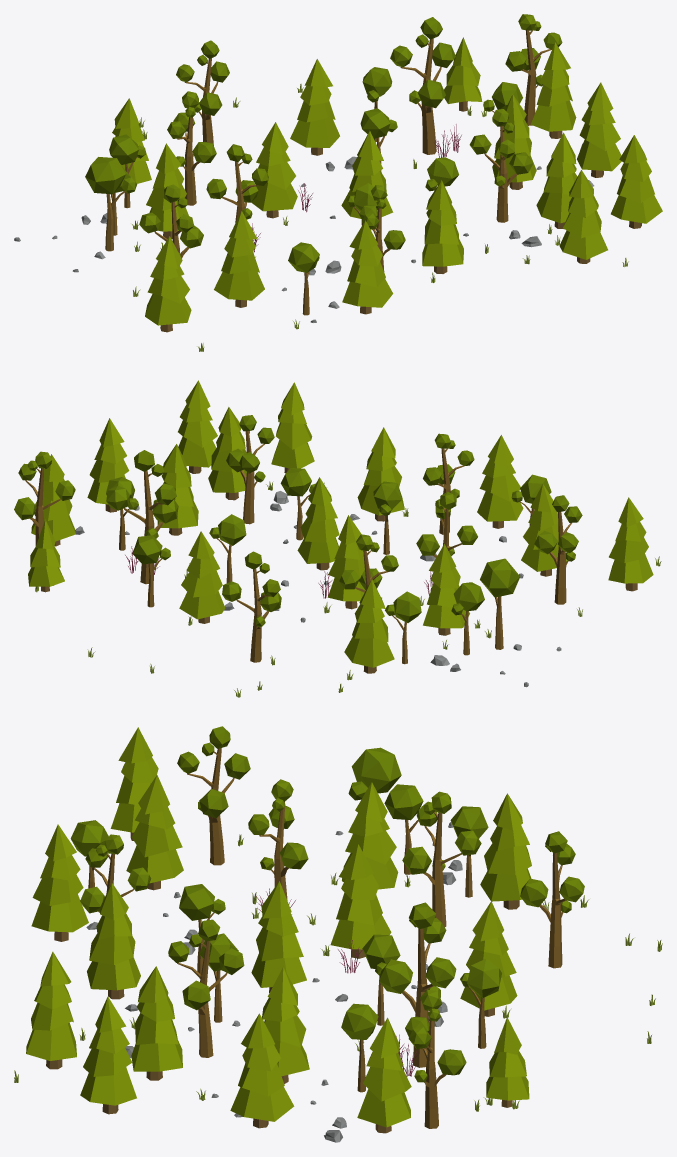
Rendered from precontact trees.gltf.
The picture shows the model from 3 angles, top to bottom: view 1: azimuth 30°, elevation 25°; view 2: azimuth 150°, elevation 25°; view 3: azimuth 270°, elevation 25°; orthographic projection. The views are drawn at different scales.
Visible parts, largest first — view 1: precontact trees; view 2: precontact trees; view 3: precontact trees.
Part boxes in pixels (box(x1,y1,x2,y2)): precontact trees: box(14, 14, 662, 351); precontact trees: box(14, 380, 661, 697); precontact trees: box(14, 726, 662, 1142).
Bounding box in the file's own units: 102 × 24.17 × 88.32.
